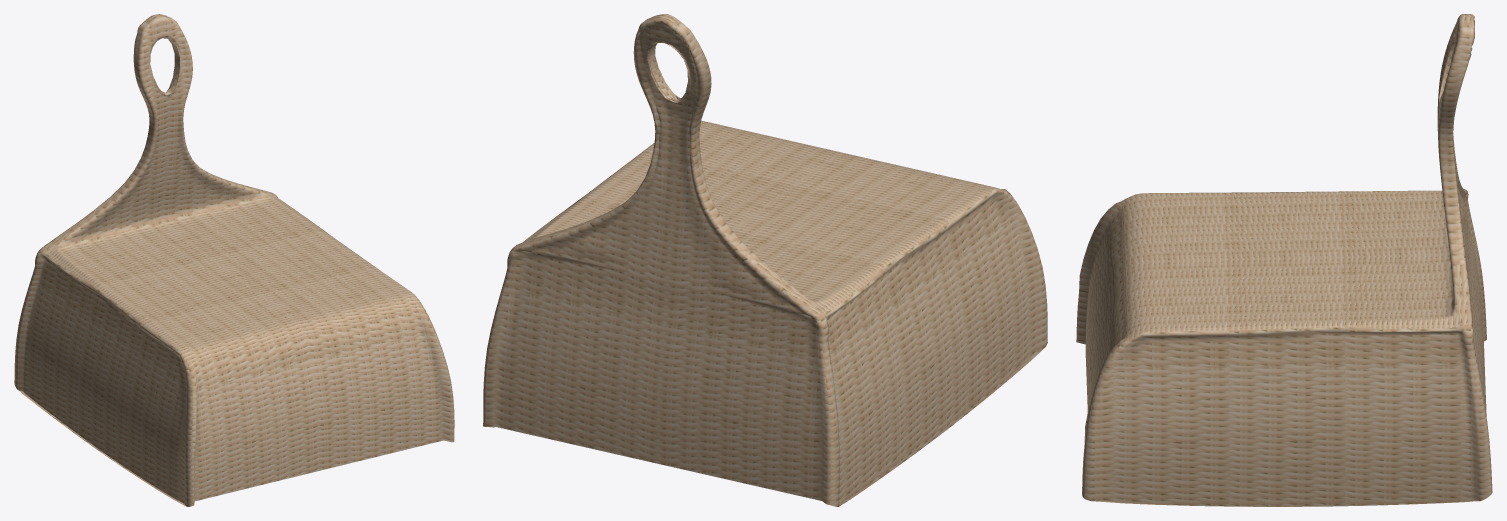
The model's file is IKEA-Gullholmen_rocking_chair-3D.FBX.
The picture shows the model from 3 angles, left to right: view 1: azimuth 30°, elevation 25°; view 2: azimuth 150°, elevation 25°; view 3: azimuth 270°, elevation 25°; orthographic projection. The views are drawn at different scales.
Parts seen in each view (by area): view 1: Box01; view 2: Box01; view 3: Box01.
Part boxes in pixels (x1=…): Box01: x1=14, y1=14, x2=454, y2=506; Box01: x1=483, y1=14, x2=1047, y2=506; Box01: x1=1076, y1=14, x2=1492, y2=506.
Size of the model in its own units: 0.6298 by 0.6991 by 0.7705.
Materials: 1 (1 with a texture image).
